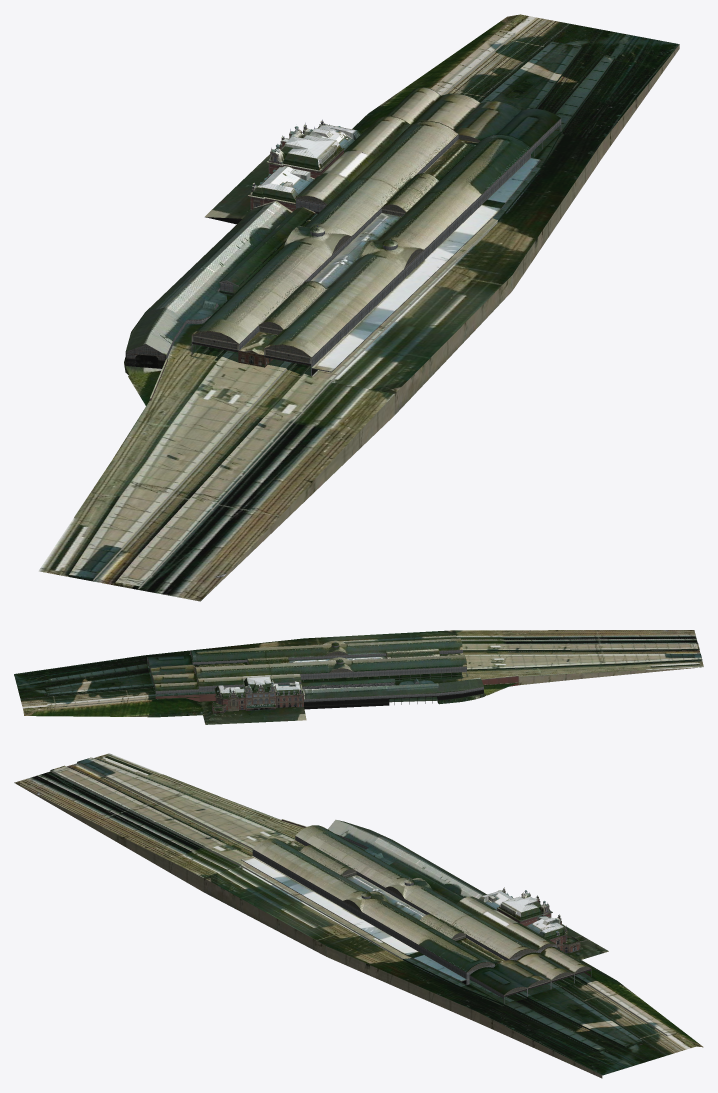
3 views of the same model, one above another, from view 1: azimuth 30°, elevation 25°; view 2: azimuth 150°, elevation 25°; view 3: azimuth 270°, elevation 25° (orthographic). The views are drawn at different scales.
Parts seen in each view (by area): view 1: ID2406, ID2003, ID2711, ID2535, ID1900, ID2630, ID2674, ID2501, ID2201, ID1821, ID2311, ID2772 (+10 smaller); view 2: ID2535, ID2003, ID2406, ID1900, ID2501, ID2630, ID2290, ID2201, ID2711, ID681, ID2674, ID1821 (+22 smaller); view 3: ID2406, ID2535, ID2003, ID2711, ID1900, ID2630, ID2674, ID2201, ID1821, ID2501, ID2311, ID2514 (+9 smaller).
Boxes of the visible parts, x1,y1,x2,y2 form: ID2406: (139,44,679,601); ID2003: (192,116,458,343); ID2711: (332,134,602,393); ID2535: (431,14,679,141); ID1900: (264,134,530,357); ID2630: (69,356,286,579); ID2674: (114,220,497,589); ID2501: (38,352,217,576); ID2201: (125,201,292,355); ID1821: (386,87,560,146); ID2311: (312,158,540,371); ID2772: (93,369,301,585); ID2535: (14,655,155,710); ID2003: (195,650,466,686); ID2406: (14,630,697,676); ID1900: (191,638,462,662); ID2501: (462,660,703,685); ID2630: (464,653,701,669); ID2290: (23,697,188,717); ID2201: (303,677,483,699); ID2711: (144,630,457,663); ID681: (186,698,306,724); ID2674: (462,643,699,650); ID1821: (147,655,198,690); ID2406: (14,771,602,1078); ID2535: (470,977,695,1075); ID2003: (295,825,555,959); ID2711: (204,866,503,1012); ID1900: (253,838,493,972); ID2630: (77,757,294,848); ID2674: (51,765,408,958); ID2201: (327,819,486,898); ID1821: (470,946,589,994); ID2501: (94,753,304,839); ID2311: (241,856,466,980); ID2514: (527,987,642,1046).
Size of the model in its own units: 15733 by 13939 by 978.
89 materials, 87 textured.
